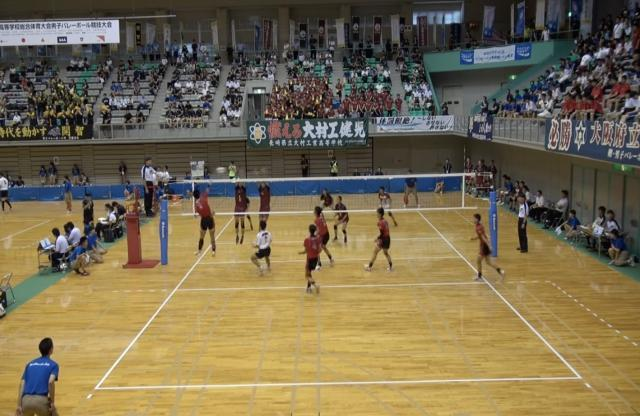spike: (186, 171, 228, 261)
